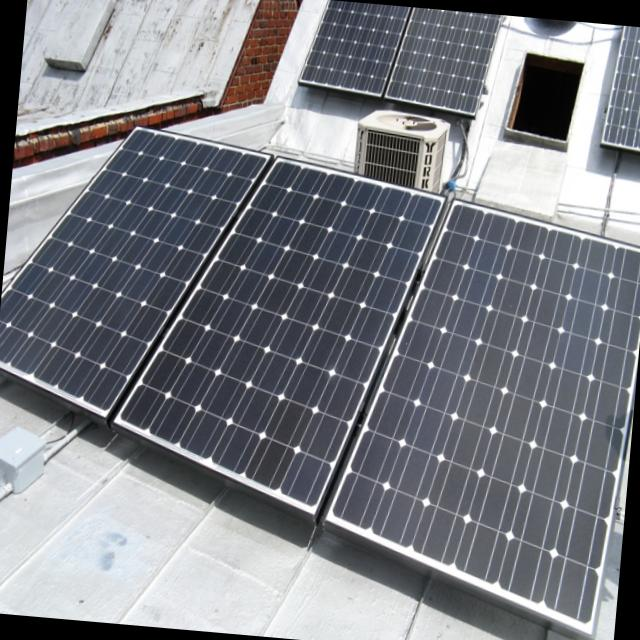no faulty: (340, 202, 640, 615), (128, 164, 432, 498), (0, 134, 265, 402), (390, 7, 497, 114), (302, 1, 408, 82)
